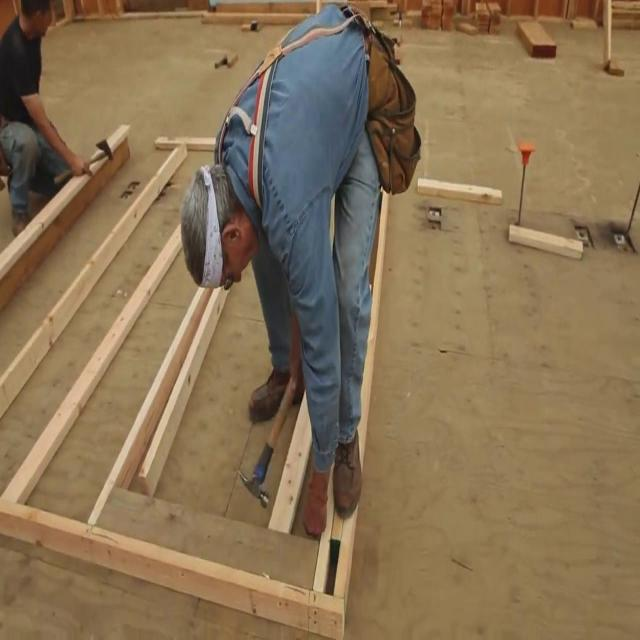hammer: (240, 377, 295, 506)
